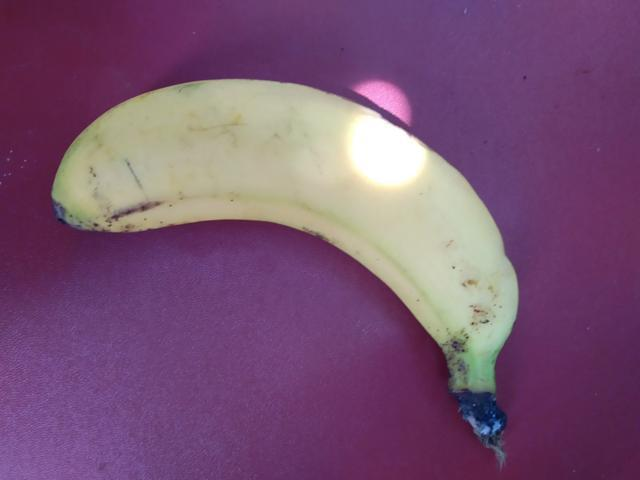freshripe: (51, 59, 518, 355)
